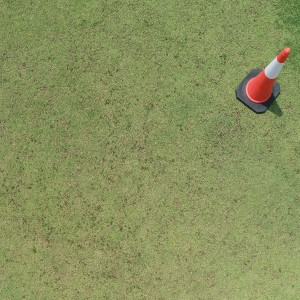traffic cone: (234, 47, 292, 114)
